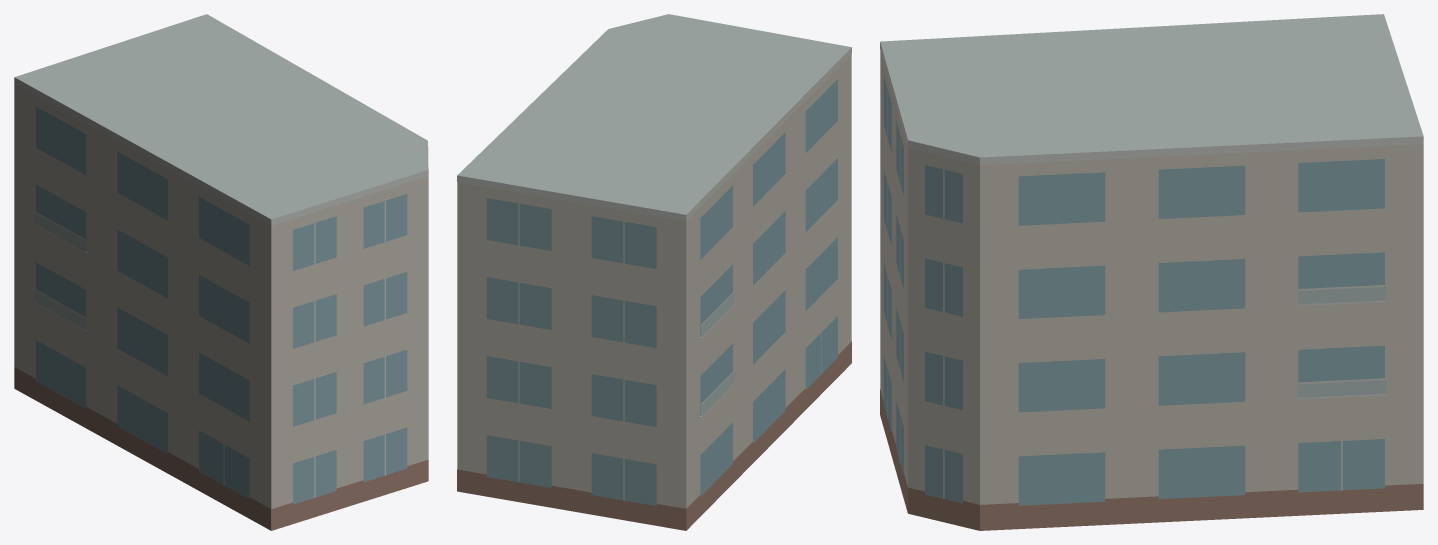
Rendered from survey-upis-32721248.glb.
3 renders of one model, left to right at view 1: azimuth 30°, elevation 25°; view 2: azimuth 150°, elevation 25°; view 3: azimuth 270°, elevation 25°, orthographic. The views are drawn at different scales.
Parts seen in each view (by area): view 1: survey-upis-32721248.tmp; view 2: survey-upis-32721248.tmp; view 3: survey-upis-32721248.tmp.
Boxes of the visible parts, <box> form: survey-upis-32721248.tmp: <box>14,14,428,530</box>; survey-upis-32721248.tmp: <box>457,14,851,530</box>; survey-upis-32721248.tmp: <box>880,14,1423,530</box>.
Size of the model in its own units: 9.78 by 11.85 by 15.65.
